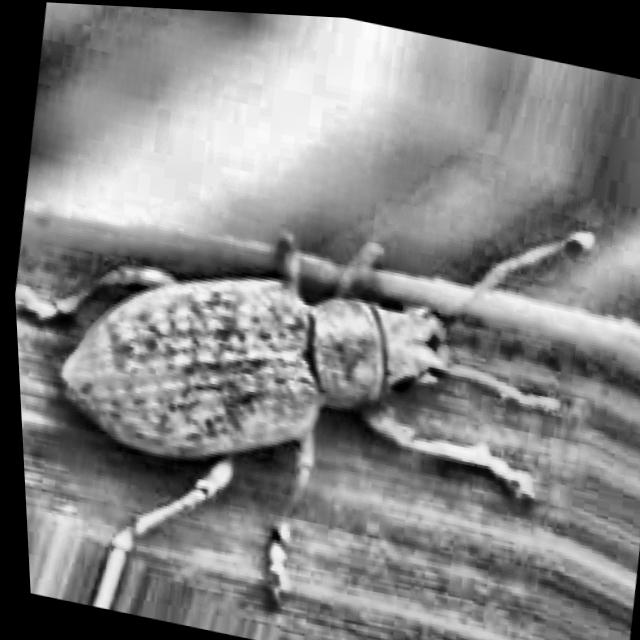Stink bug: (0, 0, 568, 627)
